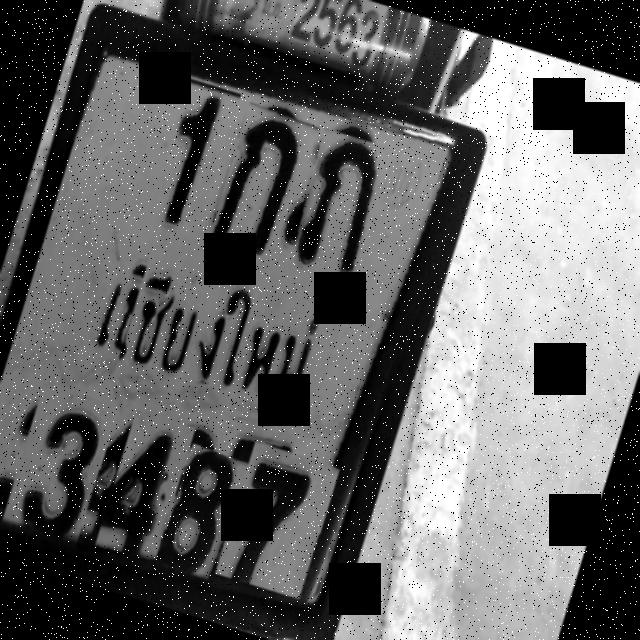letters: (131, 75, 241, 258), (214, 440, 340, 599), (0, 382, 119, 550), (207, 102, 321, 266), (280, 127, 394, 290), (94, 410, 194, 563), (155, 443, 252, 582)
license-plate: (0, 26, 484, 611)
province: (112, 239, 348, 436)
